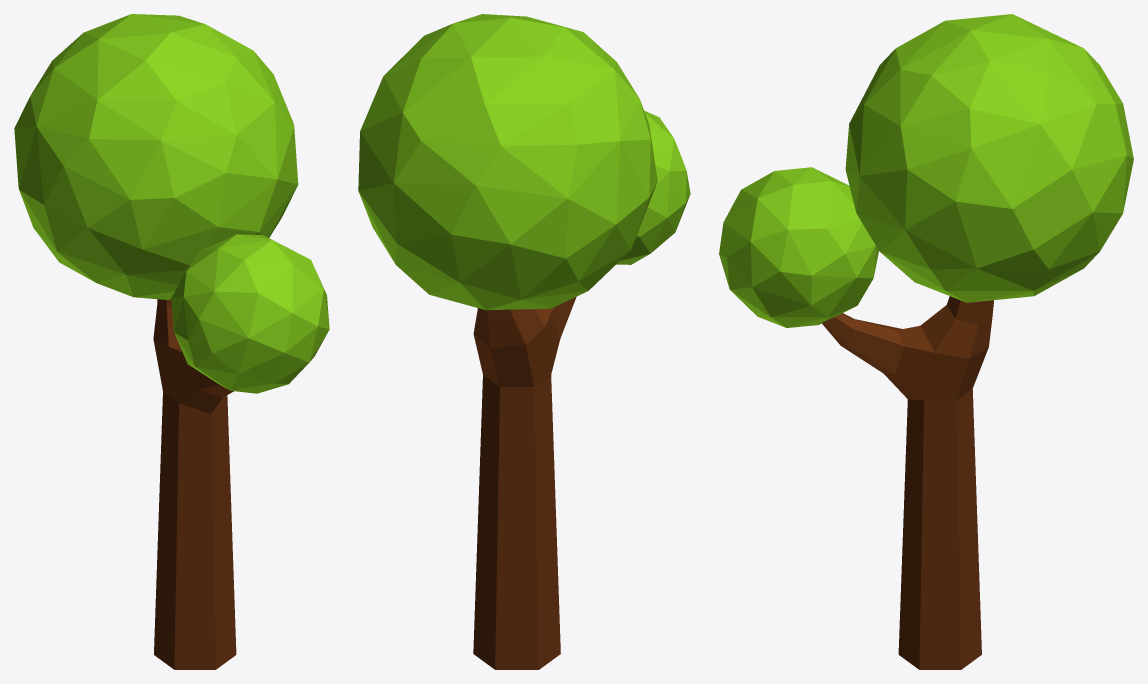
The model's file is tree.fbx.
3 views of the same model, side by side, from view 1: azimuth 30°, elevation 25°; view 2: azimuth 150°, elevation 25°; view 3: azimuth 270°, elevation 25° (orthographic). The views are drawn at different scales.
Parts seen in each view (by area): view 1: Cylinder.014; view 2: Cylinder.014; view 3: Cylinder.014.
Part boxes in pixels (x1,y1,x2,y2): Cylinder.014: [14, 14, 329, 669]; Cylinder.014: [358, 14, 690, 669]; Cylinder.014: [719, 14, 1133, 669].
Size of the model in its own units: 182 by 431 by 262.
